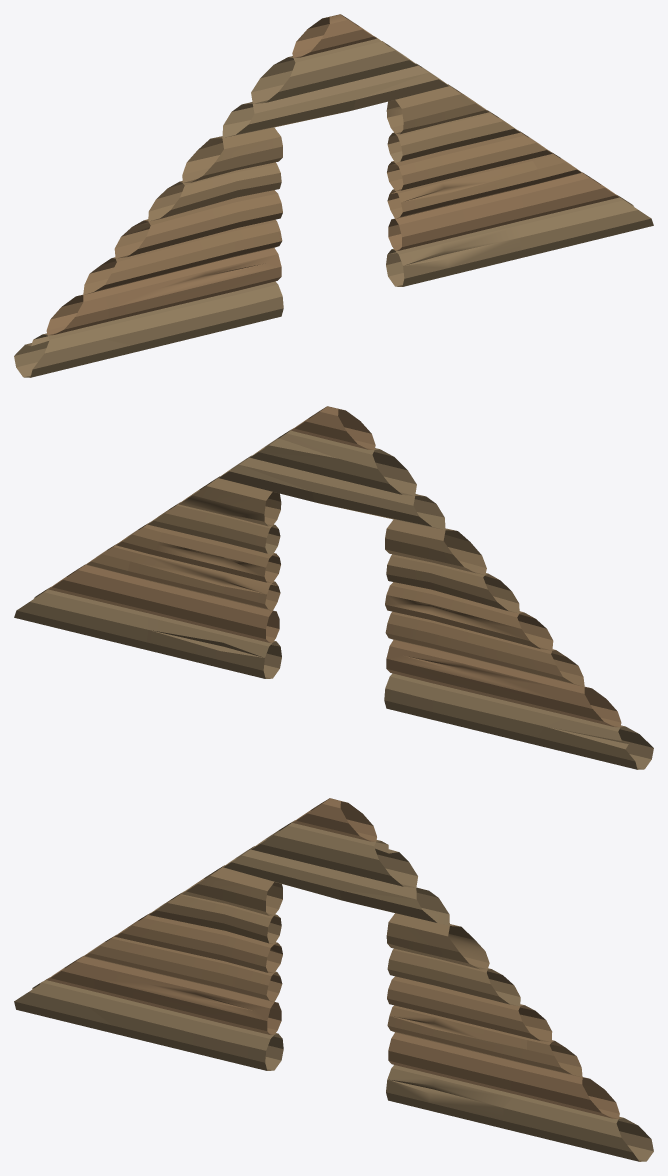
Rendered from rpgpp_ag_roof_end_01_9x4_wall_door_01a.fbx.
3 views of the same model, one above another, from view 1: azimuth 30°, elevation 25°; view 2: azimuth 150°, elevation 25°; view 3: azimuth 330°, elevation 25° (orthographic).
Visible parts, largest first — view 1: rpgpp_ag_roof_end_01_9x4_wall_door_01a; view 2: rpgpp_ag_roof_end_01_9x4_wall_door_01a; view 3: rpgpp_ag_roof_end_01_9x4_wall_door_01a.
Boxes of the visible parts, <box> form: rpgpp_ag_roof_end_01_9x4_wall_door_01a: <box>14,14,653,377</box>; rpgpp_ag_roof_end_01_9x4_wall_door_01a: <box>14,406,653,769</box>; rpgpp_ag_roof_end_01_9x4_wall_door_01a: <box>14,798,653,1161</box>.
Bounding box in the file's own units: 9 × 3.94 × 0.4626.
